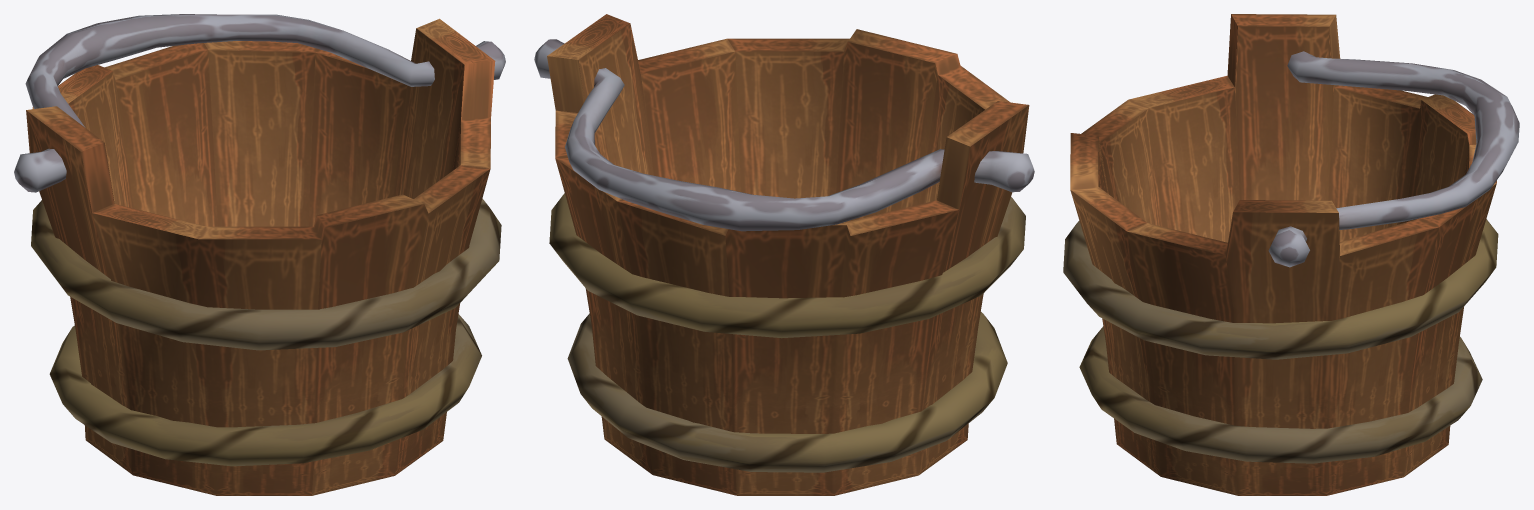
Rendered from bucket_wooden_1.glb.
3 renders of one model, left to right at view 1: azimuth 30°, elevation 25°; view 2: azimuth 150°, elevation 25°; view 3: azimuth 270°, elevation 25°, orthographic. The views are drawn at different scales.
Visible parts, largest first — view 1: Bucket_Wooden_1; view 2: Bucket_Wooden_1; view 3: Bucket_Wooden_1.
Boxes of the visible parts, left/top/right/bottom form: Bucket_Wooden_1: left=14, top=14, right=505, bottom=495; Bucket_Wooden_1: left=534, top=14, right=1034, bottom=495; Bucket_Wooden_1: left=1063, top=14, right=1519, bottom=495.
Size of the model in its own units: 0.4339 by 0.2928 by 0.3835.
Materials: 2 (2 with a texture image).
